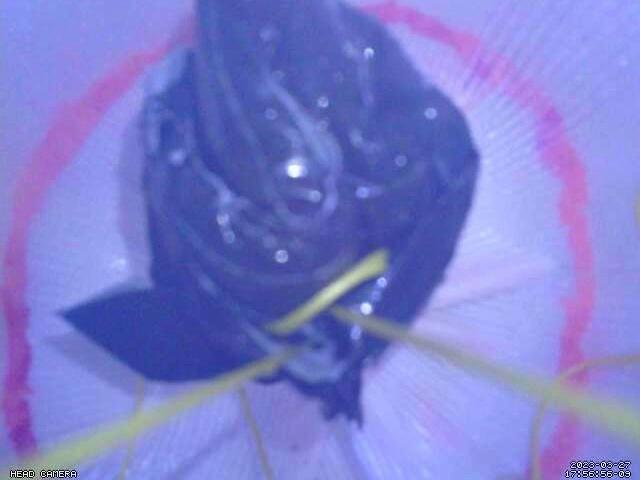head: (0, 0, 597, 480)
